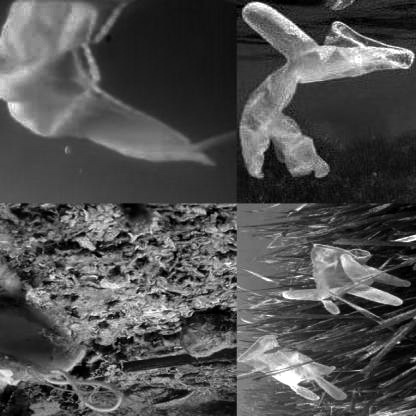Mask: (0, 0, 236, 165), (0, 232, 121, 412)
glove: (239, 1, 415, 181), (277, 240, 413, 315), (238, 333, 350, 403)
